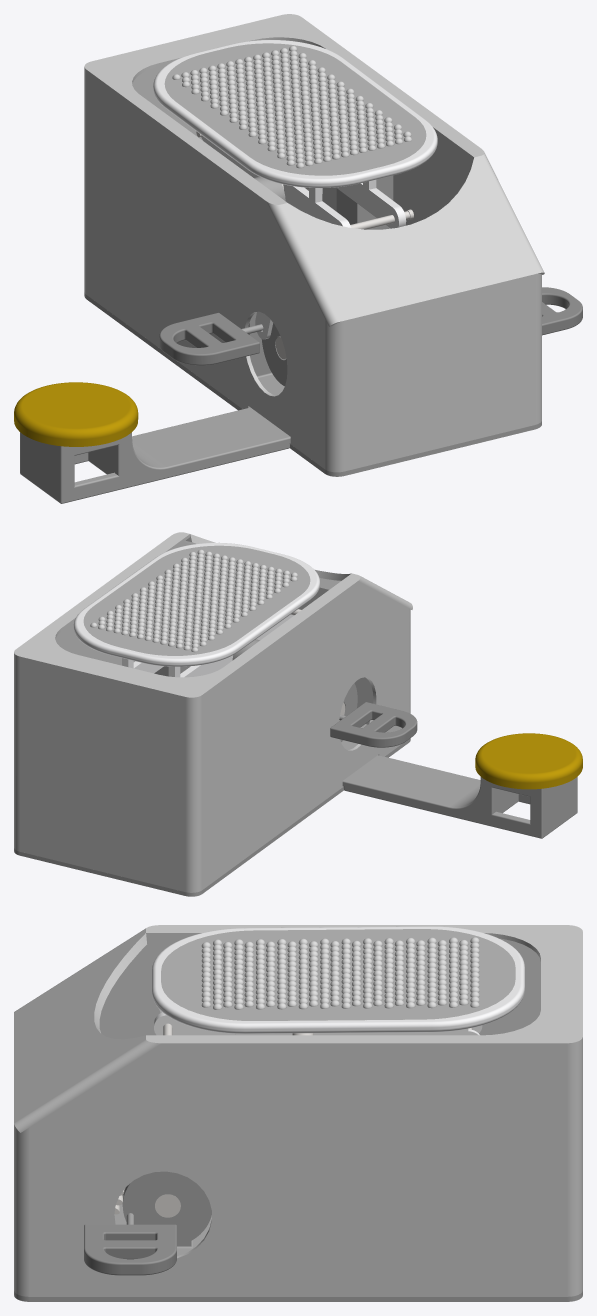
Rendered from MotionX2.0-1.2.glb.
3 renders of one model, top to bottom at view 1: azimuth 30°, elevation 25°; view 2: azimuth 150°, elevation 25°; view 3: azimuth 270°, elevation 25°, orthographic. The views are drawn at different scales.
Visible parts, largest first — view 1: Aakruthi_OuterCase-2, snsofoot-1, Ankle support pt2-1, Aakruthi_BE6-2, BE1.1-1, Aakruthi_BE3-1, Aakruthi_BE5-6, Aakruthi_BE3-2, Aakruthi_BE5-4, Aakruthi_BE2-1; view 2: Aakruthi_OuterCase-2, snsofoot-1, Ankle support pt2-1, Aakruthi_BE6-2, Aakruthi_BE3-1, BE1.1-1, Aakruthi_BE5-6; view 3: Aakruthi_OuterCase-2, snsofoot-1, Aakruthi_BE6-2, Aakruthi_BE3-2, Aakruthi_BE2_r-1, BE1.1-1, Aakruthi_BE5-6, Part7-1.
Boxes of the visible parts, x1=… form: Aakruthi_OuterCase-2: x1=84, y1=14, x2=544, y2=472; snsofoot-1: x1=164, y1=43, x2=426, y2=175; Ankle support pt2-1: x1=14, y1=382, x2=290, y2=503; Aakruthi_BE6-2: x1=153, y1=40, x2=437, y2=188; BE1.1-1: x1=84, y1=175, x2=541, y2=476; Aakruthi_BE3-1: x1=159, y1=312, x2=259, y2=365; Aakruthi_BE5-6: x1=201, y1=136, x2=351, y2=227; Aakruthi_BE3-2: x1=542, y1=287, x2=582, y2=335; Aakruthi_BE5-4: x1=336, y1=179, x2=406, y2=228; Aakruthi_BE2-1: x1=241, y1=323, x2=287, y2=386; Aakruthi_OuterCase-2: x1=14, y1=532, x2=412, y2=892; snsofoot-1: x1=83, y1=545, x2=310, y2=655; Ankle support pt2-1: x1=342, y1=733, x2=582, y2=838; Aakruthi_BE6-2: x1=73, y1=542, x2=319, y2=666; Aakruthi_BE3-1: x1=330, y1=702, x2=417, y2=747; BE1.1-1: x1=14, y1=639, x2=410, y2=896; Aakruthi_BE5-6: x1=168, y1=614, x2=293, y2=677; Aakruthi_OuterCase-2: x1=14, y1=925, x2=582, y2=1296; snsofoot-1: x1=161, y1=929, x2=515, y2=1020; Aakruthi_BE6-2: x1=152, y1=926, x2=524, y2=1033; Aakruthi_BE3-2: x1=84, y1=1224, x2=176, y2=1275; Aakruthi_BE2_r-1: x1=122, y1=1171, x2=211, y2=1245; BE1.1-1: x1=14, y1=1195, x2=582, y2=1301; Aakruthi_BE5-6: x1=154, y1=1012, x2=482, y2=1035; Part7-1: x1=155, y1=1194, x2=180, y2=1217.
Size of the model in its own units: 0.755 by 0.3231 by 0.61.
